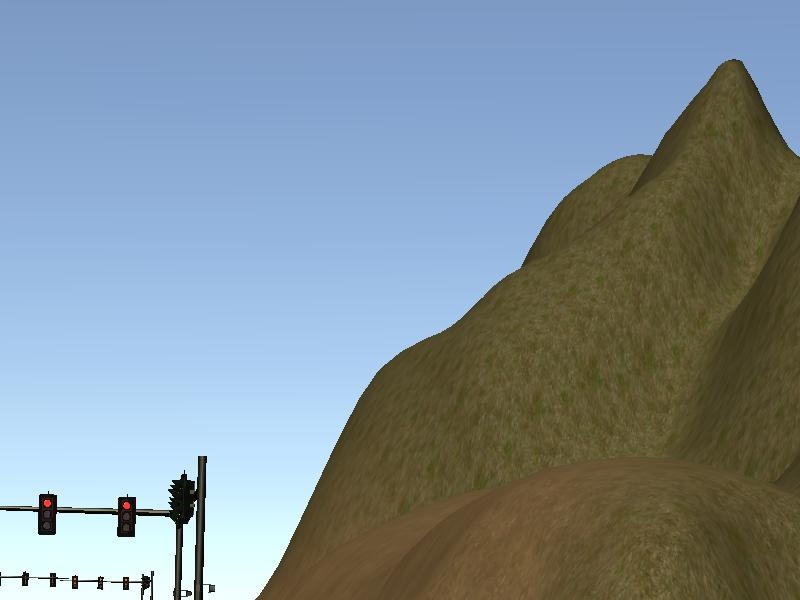red: (113, 493, 140, 540), (36, 490, 60, 540)
